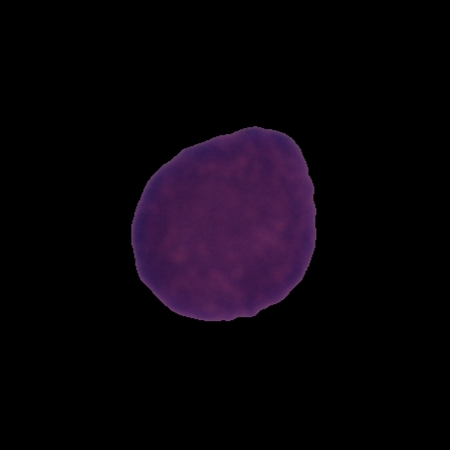HEM: (127, 123, 320, 324)
